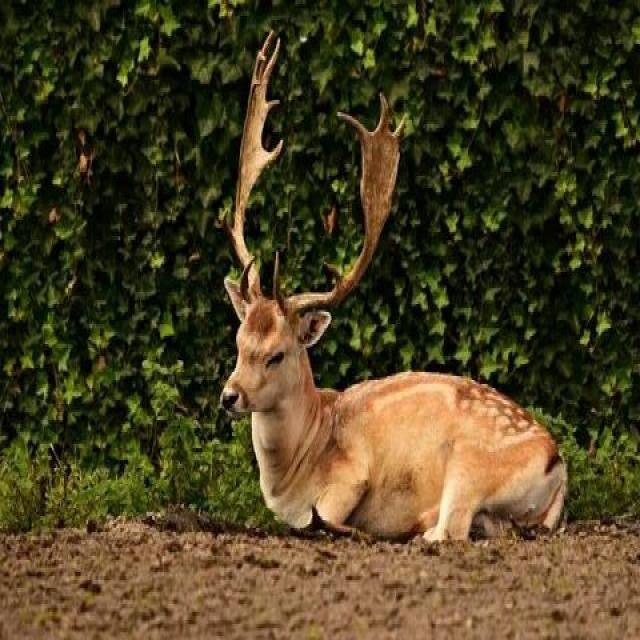deer: (198, 90, 574, 577)
